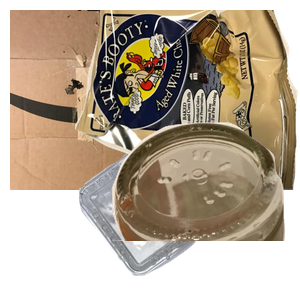cardboard: (10, 10, 245, 190)
glass: (89, 120, 300, 300)
plastic: (77, 133, 289, 300)
trash: (75, 10, 300, 190)
